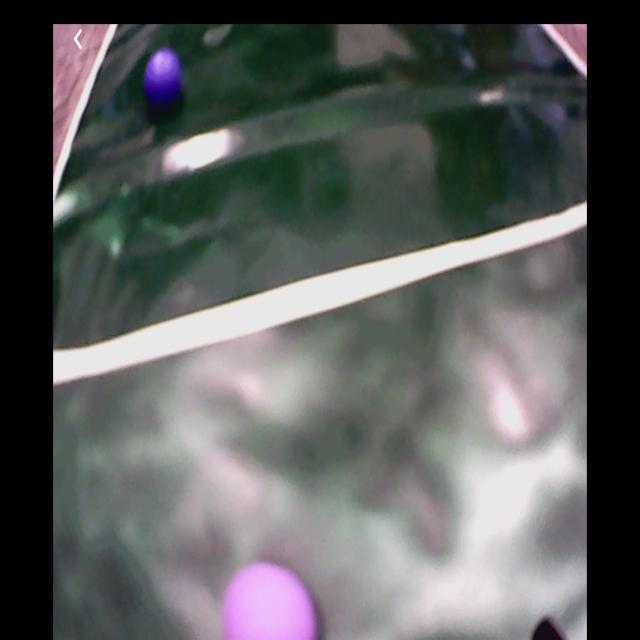ball: (221, 561, 321, 640), (144, 51, 187, 110)
